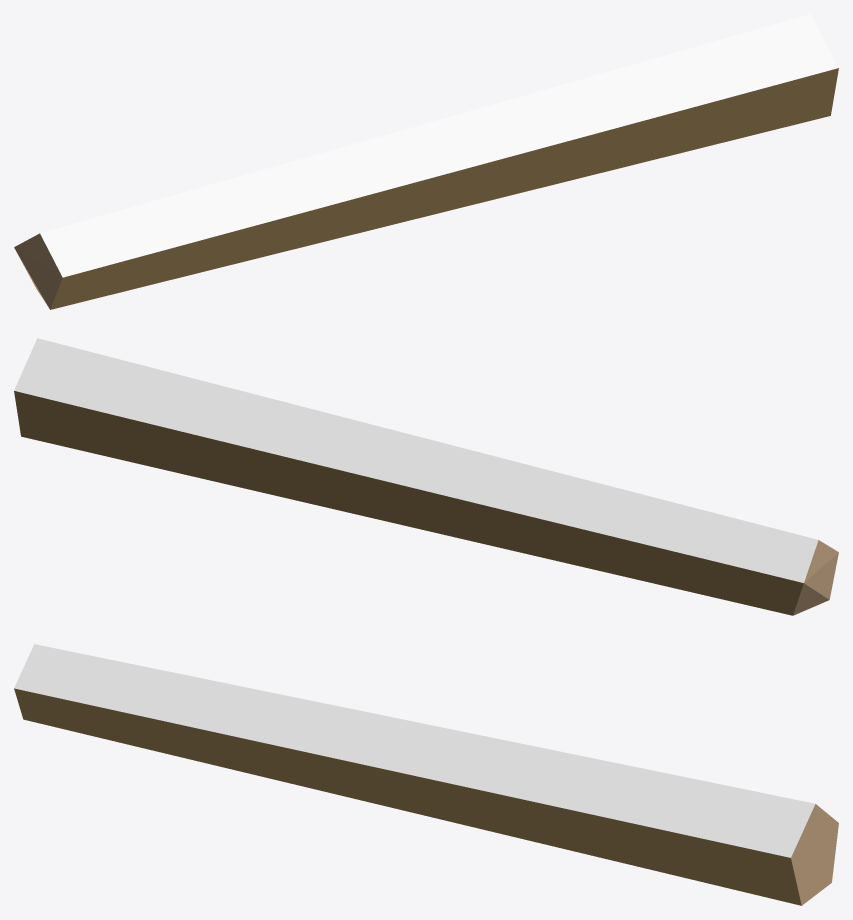
The model's file is Oak_Log_Snow_01.fbx.
The picture shows the model from 3 angles, top to bottom: view 1: azimuth 30°, elevation 25°; view 2: azimuth 150°, elevation 25°; view 3: azimuth 330°, elevation 25°; orthographic projection.
Parts seen in each view (by area): view 1: Oak_Log_Snow_01; view 2: Oak_Log_Snow_01; view 3: Oak_Log_Snow_01.
Part boxes in pixels (<box>): Oak_Log_Snow_01: <box>14,14,838,309</box>; Oak_Log_Snow_01: <box>14,338,838,615</box>; Oak_Log_Snow_01: <box>14,644,838,905</box>.
Size of the model in its own units: 364 by 39.74 by 44.17.
